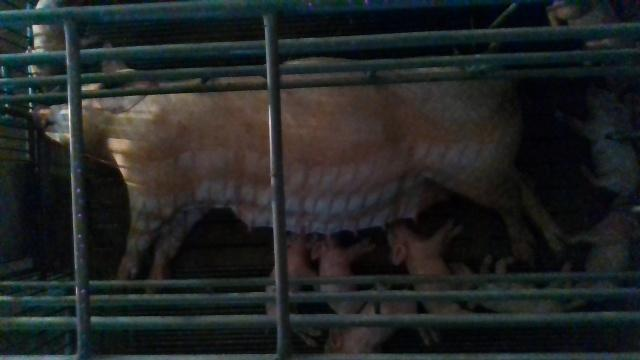piglet: (552, 86, 640, 195), (566, 193, 639, 306), (451, 254, 583, 316), (389, 223, 469, 312), (321, 298, 440, 354), (263, 232, 321, 345), (31, 0, 98, 90), (548, 1, 640, 66), (309, 231, 372, 313)
sow-sleep-lactate: (34, 42, 563, 292)
